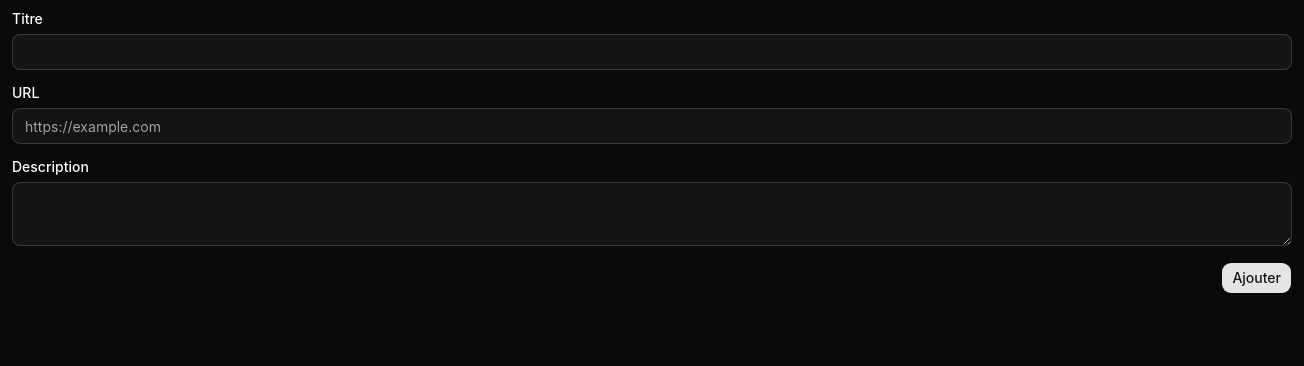
Test: LinkForm › Form Validation › shows error when title is empty
The image size is (1304, 366).
Step 1. Click the button "Ajouter" → [1257, 278], box 1221,262 -> 1292,294
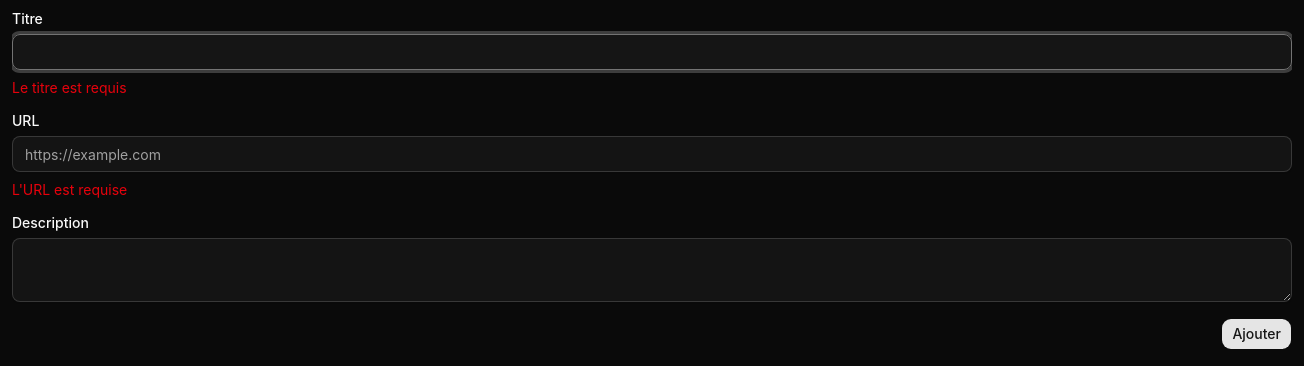
Now the text "Le titre est requis" is shown, box 12,79 -> 127,96
